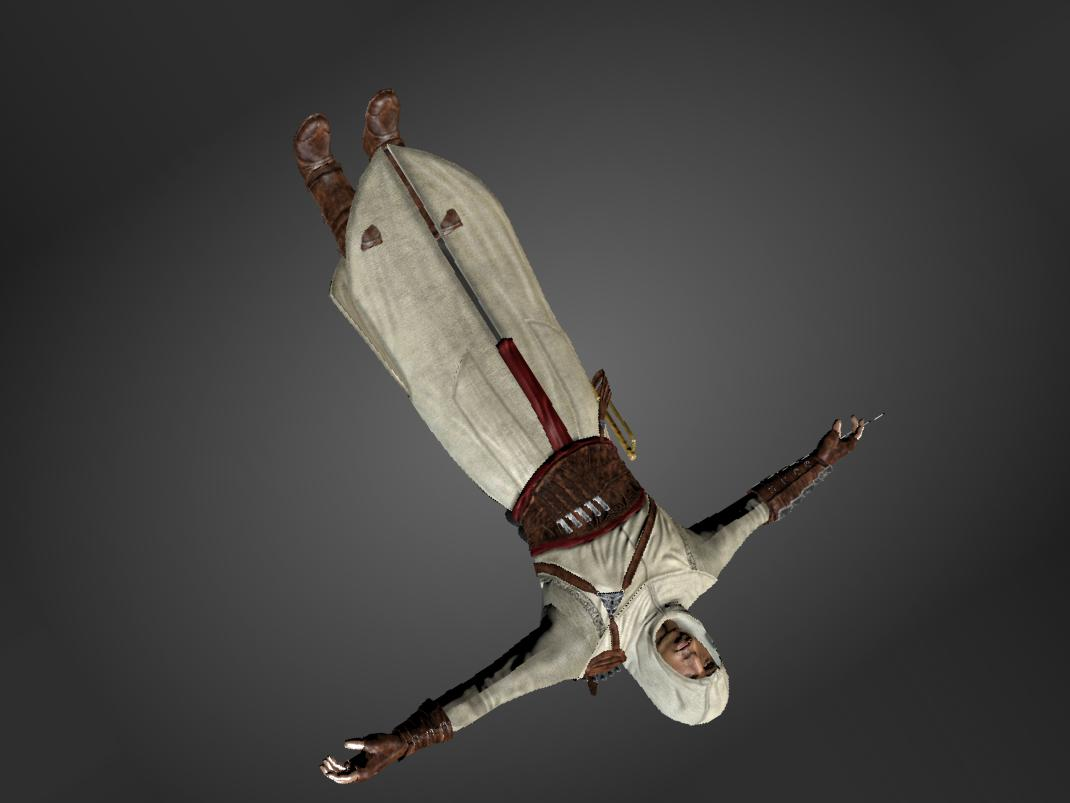clip: (433, 203, 468, 241), (357, 220, 388, 257)
